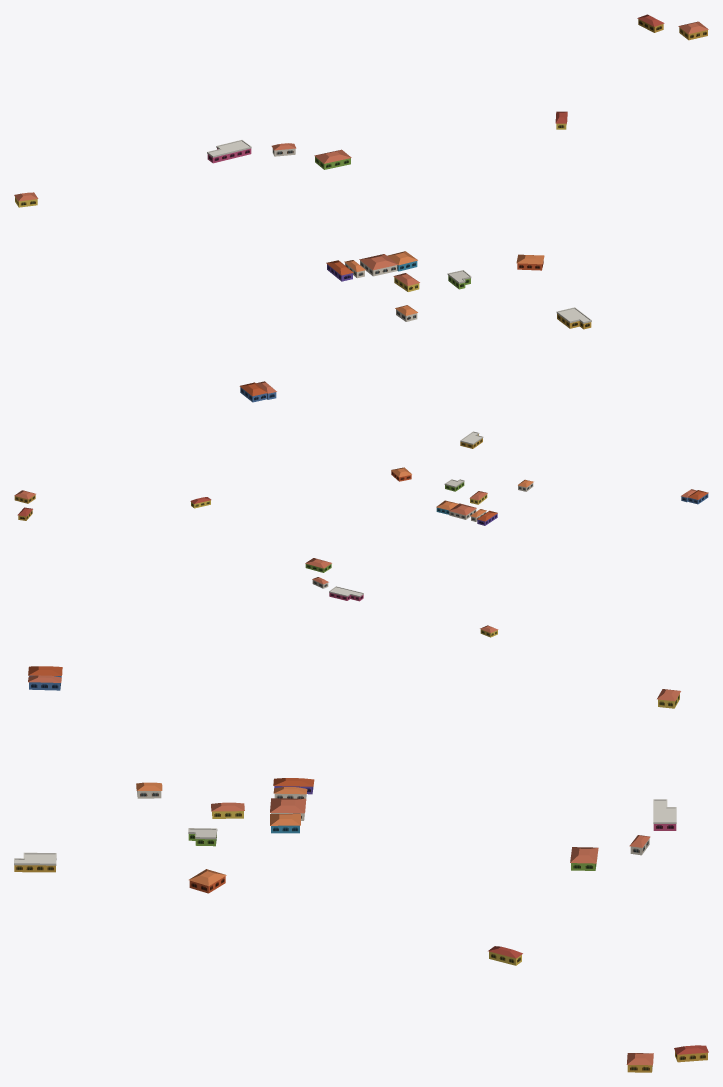
File: msb_oranjestad_m15_m4.glb
3 renders of one model, top to bottom at view 1: azimuth 30°, elevation 25°; view 2: azimuth 150°, elevation 25°; view 3: azimuth 270°, elevation 25°, orthographic. The views are drawn at different scales.
Visible parts, largest first — view 1: msb_oranjestad_m15_m4_lod0; view 2: msb_oranjestad_m15_m4_lod0; view 3: msb_oranjestad_m15_m4_lod0.
Boxes of the visible parts, left/top/right/bottom form: msb_oranjestad_m15_m4_lod0: left=14, top=14, right=708, bottom=402; msb_oranjestad_m15_m4_lod0: left=14, top=431, right=708, bottom=637; msb_oranjestad_m15_m4_lod0: left=14, top=666, right=708, bottom=1072.
Size of what is drawn, in the model's own units: 393 by 15.15 by 278.
Materials: 3 (1 with a texture image).
